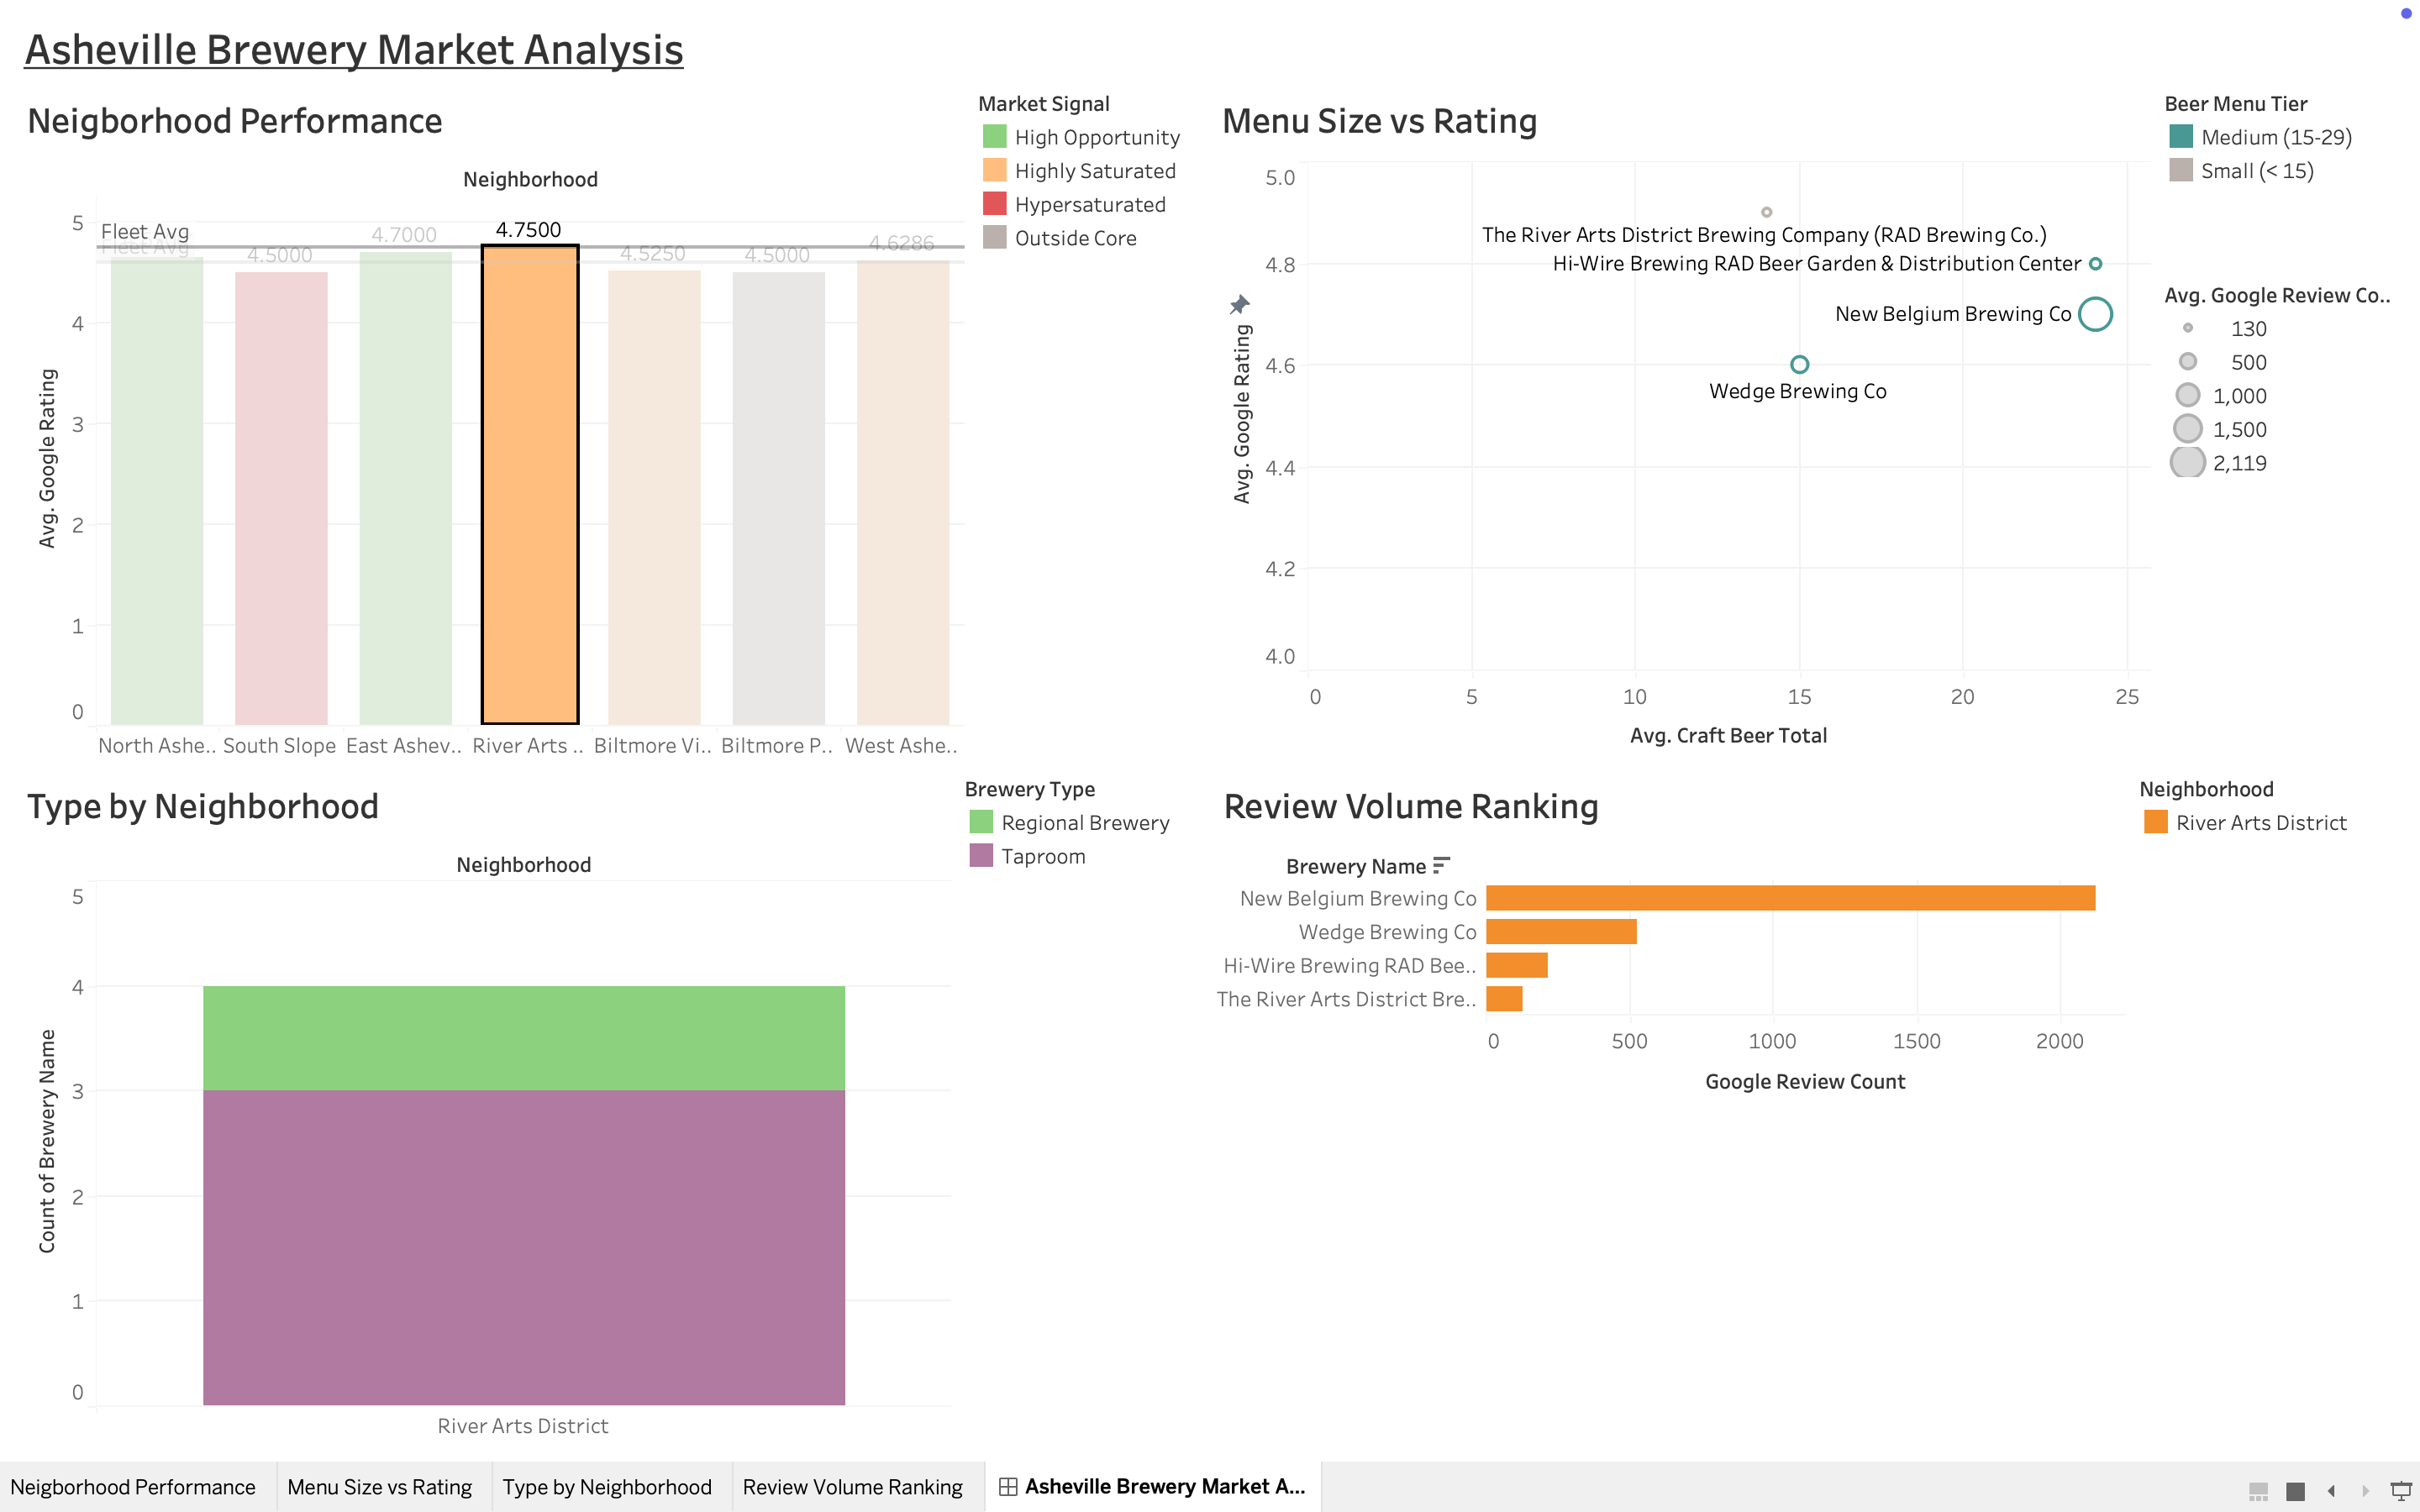

This screenshot's page, from the dashboard's own definition file:
{"tool":"tableau","page":{"name":"Asheville Brewery Market Analysis","canvas":[1000,1000],"units":"permille","ordinal":0},"visuals":[{"type":"title","box":[16.1,11.8,967.8,60.5]},{"type":"worksheet","title":"Neigborhood Performance","mark":"Automatic","rows":["google_rating"],"cols":["neighborhood"],"box":[16.1,72.3,199.7,459.9]},{"type":"legend","title":"Neigborhood Performance","param":"[federated.0e7pakv050v0t112rgxxq1gu1ju3].[none:market_signal:nk]","box":[215.8,72.3,283.7,156.3]},{"type":"worksheet","title":"Menu Size vs Rating","mark":"Automatic","rows":["google_rating"],"cols":["craft_beer_total"],"box":[499.5,72.3,383.8,459.9]},{"type":"legend","title":"Menu Size vs Rating","param":"[federated.0e7pakv050v0t112rgxxq1gu1ju3].[none:beer_menu_tier:nk]","box":[883.3,72.3,100.6,128.5]},{"type":"legend","title":"Menu Size vs Rating","param":"[federated.0e7pakv050v0t112rgxxq1gu1ju3].[avg:google_review_count:qk]","box":[883.3,200.7,100.6,331.4]},{"type":"worksheet","title":"Type by Neighborhood","mark":"Automatic","rows":["brewery_name"],"cols":["neighborhood"],"box":[16.1,532.2,382.1,456]},{"type":"legend","title":"Type by Neighborhood","param":"[federated.0e7pakv050v0t112rgxxq1gu1ju3].[none:brewery_type:nk]","box":[398.2,532.2,101.8,456]},{"type":"worksheet","title":"Review Volume Ranking","mark":"Automatic","rows":["brewery_name"],"cols":["google_review_count"],"box":[500,532.2,372.9,456]},{"type":"legend","title":"Review Volume Ranking","param":"[federated.0e7pakv050v0t112rgxxq1gu1ju3].[none:neighborhood:nk]","box":[872.9,532.2,111,456]}]}

Visuals, with their boxes on the dashboard's canvas, which has no fixed pixel size, in thousandths of its width and height (x1, y1, x2, y2). These are canvas units, not pixel positions in the 2420x1512 screenshot, which may show the page scaled, cropped or inside an application window:
title: (left=16, top=12, right=984, bottom=72)
"Neigborhood Performance" worksheet: (left=16, top=72, right=216, bottom=532)
"Neigborhood Performance" legend: (left=216, top=72, right=500, bottom=229)
"Menu Size vs Rating" worksheet: (left=500, top=72, right=883, bottom=532)
"Menu Size vs Rating" legend: (left=883, top=72, right=984, bottom=201)
"Menu Size vs Rating" legend: (left=883, top=201, right=984, bottom=532)
"Type by Neighborhood" worksheet: (left=16, top=532, right=398, bottom=988)
"Type by Neighborhood" legend: (left=398, top=532, right=500, bottom=988)
"Review Volume Ranking" worksheet: (left=500, top=532, right=873, bottom=988)
"Review Volume Ranking" legend: (left=873, top=532, right=984, bottom=988)
